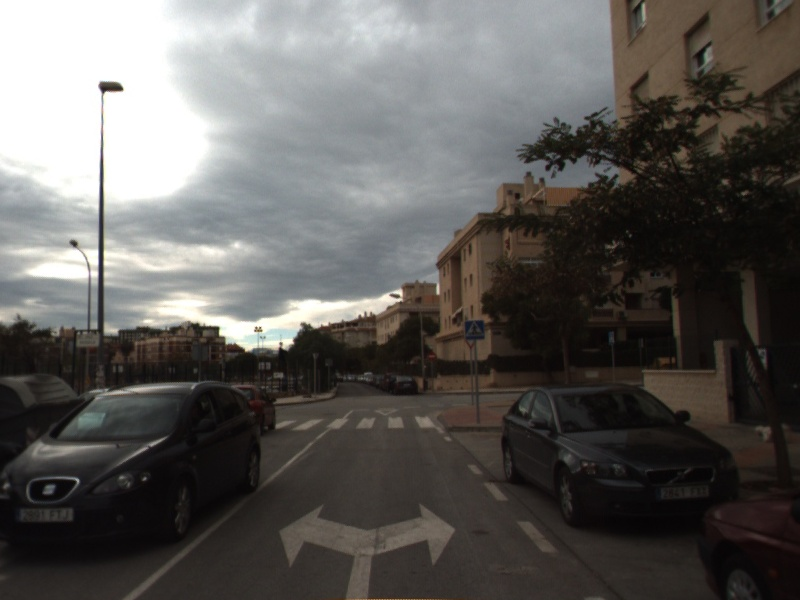LEFT_RIGHT: (276, 499, 459, 600)
